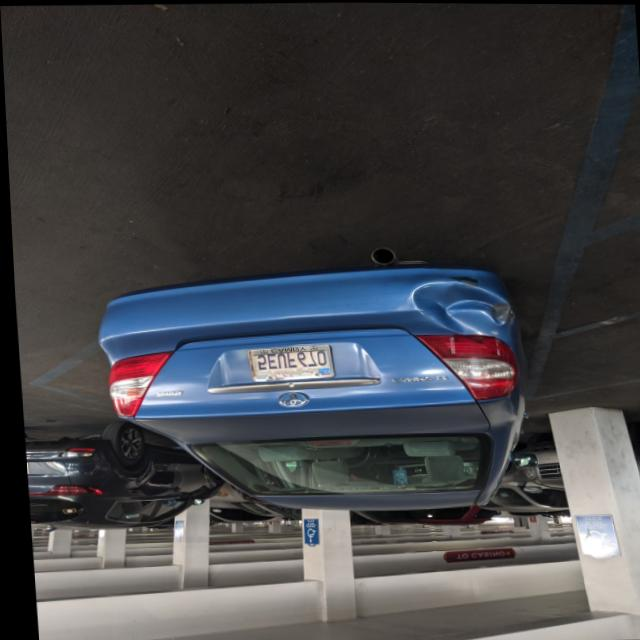Dent: (405, 273, 517, 336)
